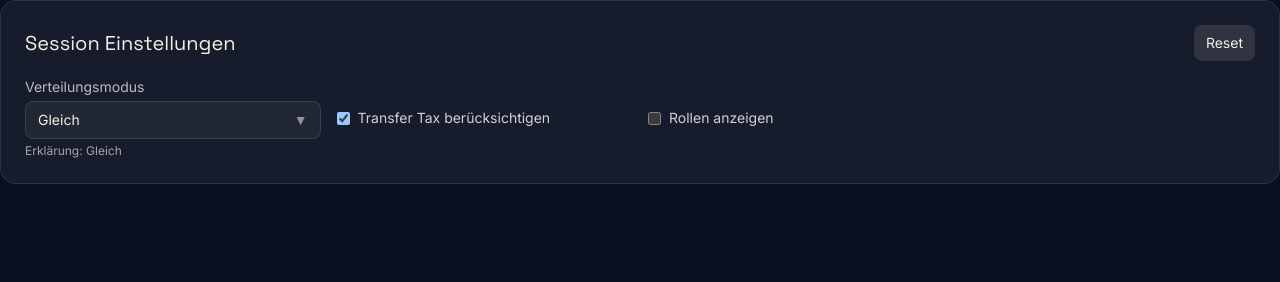
Test: SessionSettings - Distribution Mode Selector › should open dropdown when button is clicked
Click the button "Gleich ▼".
click(59, 120)  # box [25,101,320,139]
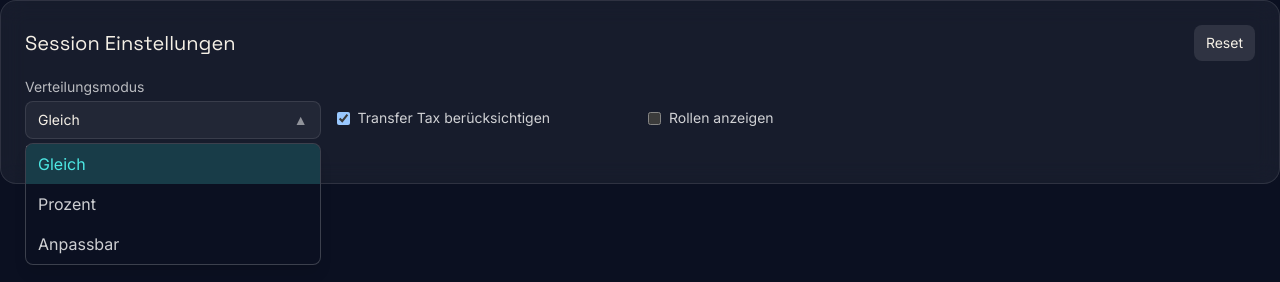
expect the list is shown: met, box [25,143,320,265]
